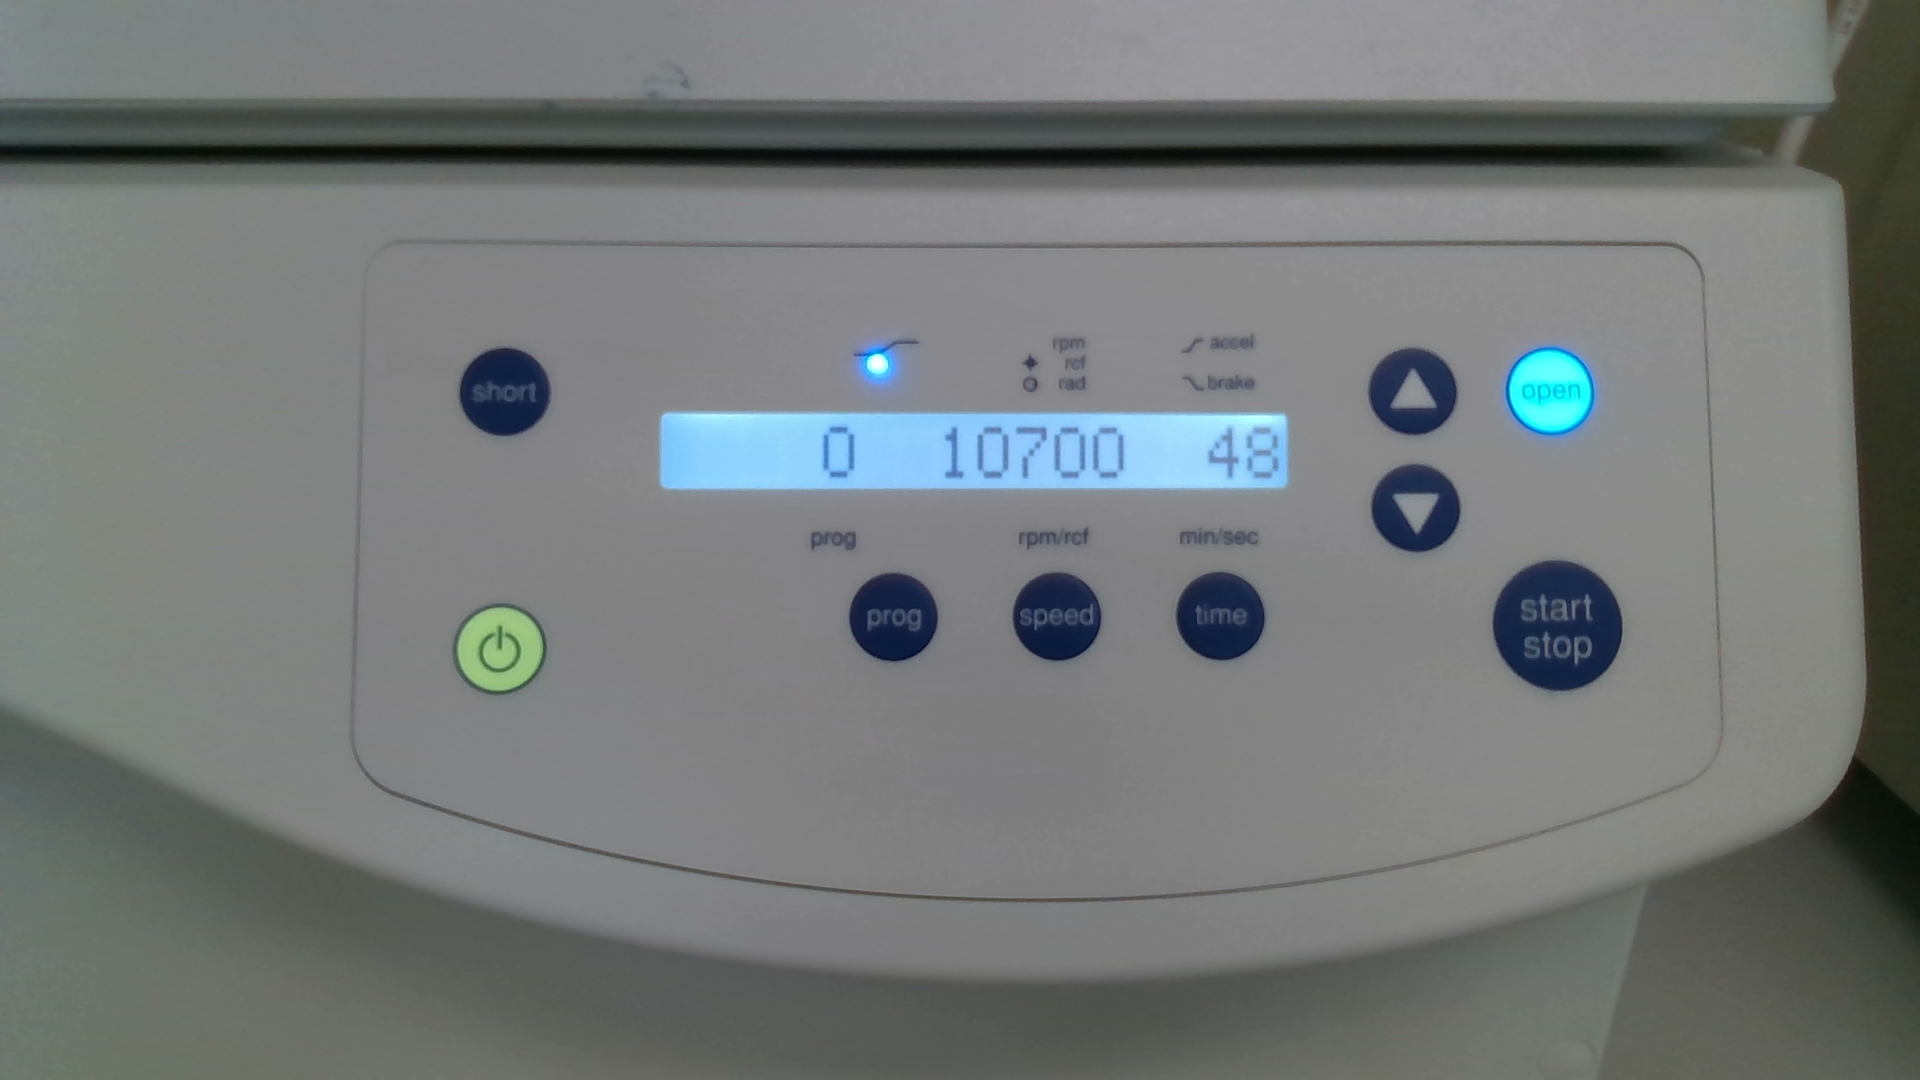0: (1054, 427, 1085, 479), (823, 427, 855, 477), (977, 427, 1007, 479), (1093, 427, 1124, 479)
1: (944, 426, 964, 479)
4: (1208, 427, 1240, 479)
7: (1015, 427, 1047, 479)
8: (1247, 427, 1278, 479)
open_on: (1505, 345, 1596, 436)
power_on: (452, 603, 547, 696)
